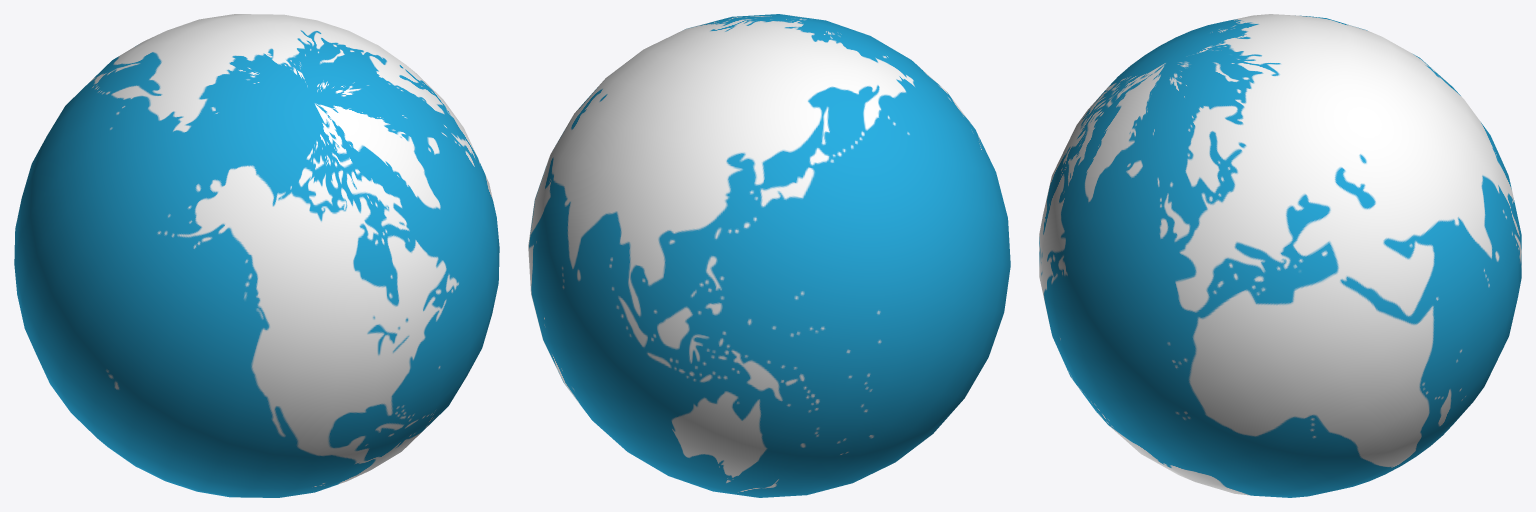
The model's file is earth.glb.
3 renders of one model, left to right at view 1: azimuth 30°, elevation 25°; view 2: azimuth 150°, elevation 25°; view 3: azimuth 270°, elevation 25°, orthographic.
Parts seen in each view (by area): view 1: Sphere; view 2: Sphere; view 3: Sphere.
Boxes of the visible parts, x1,y1,x2,y2 form: Sphere: (14,14,499,497); Sphere: (528,14,1010,497); Sphere: (1039,14,1521,497).
Size of the model in its own units: 5.36 by 5.34 by 5.34.
1 material, 1 textured.
